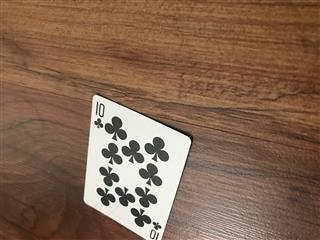TenOfClubs: (82, 93, 192, 240)
